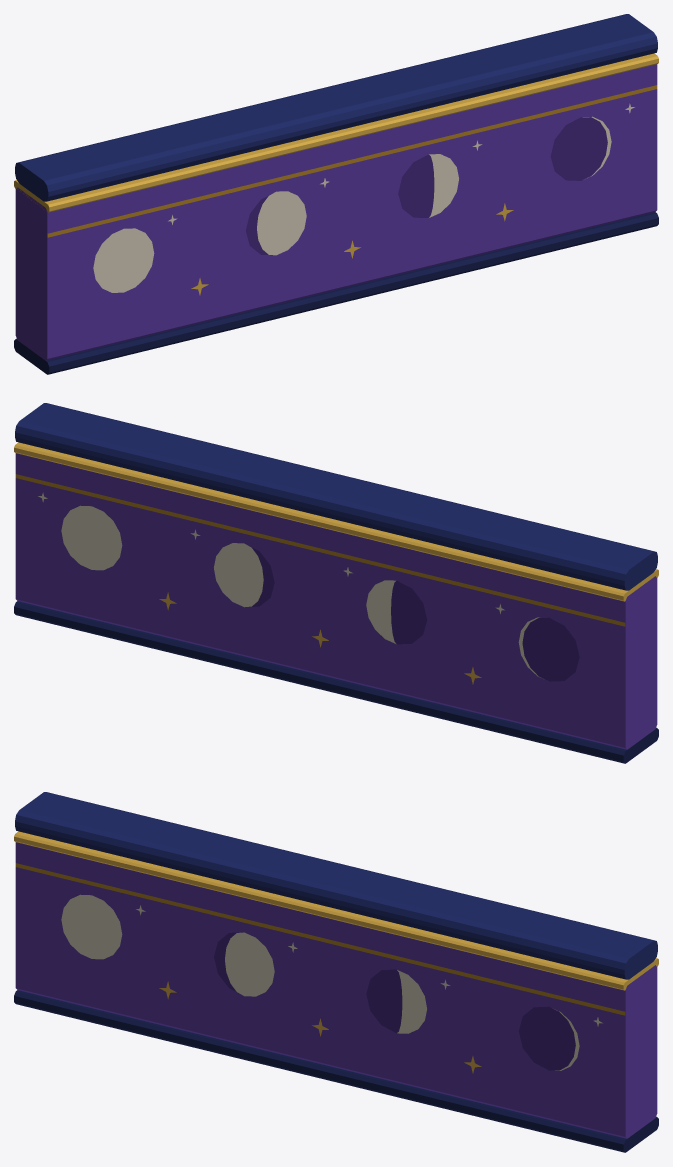
The model's file is observatory-wall2.glb.
3 renders of one model, top to bottom at view 1: azimuth 30°, elevation 25°; view 2: azimuth 150°, elevation 25°; view 3: azimuth 330°, elevation 25°, orthographic.
Visible parts, largest first — view 1: observatory-wall2; view 2: observatory-wall2; view 3: observatory-wall2.
Part boxes in pixels (x1,y1,x2,y2): observatory-wall2: (14, 14, 658, 374); observatory-wall2: (14, 403, 658, 763); observatory-wall2: (14, 792, 658, 1152).
Size of the model in its own units: 4 by 1.2 by 0.4.
